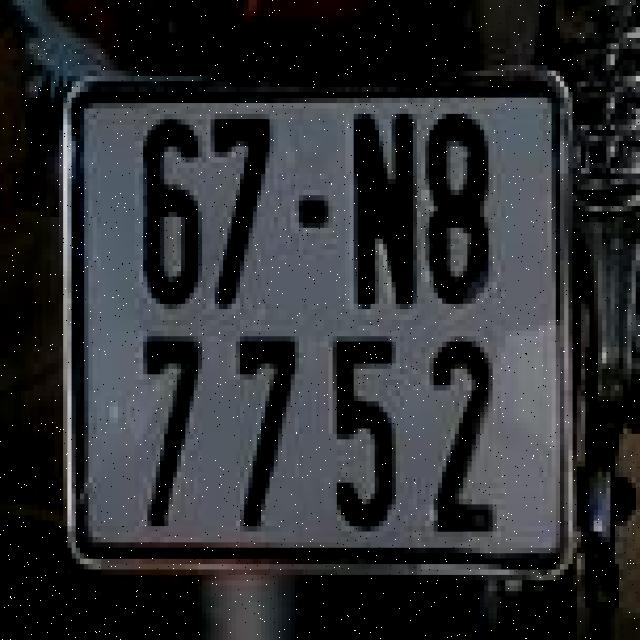2: (417, 322, 509, 540)
5: (328, 325, 408, 537)
6: (132, 111, 208, 317)
7: (128, 323, 208, 529), (230, 328, 301, 534), (210, 108, 278, 320)
8: (421, 100, 501, 306)
N: (343, 105, 428, 322)
